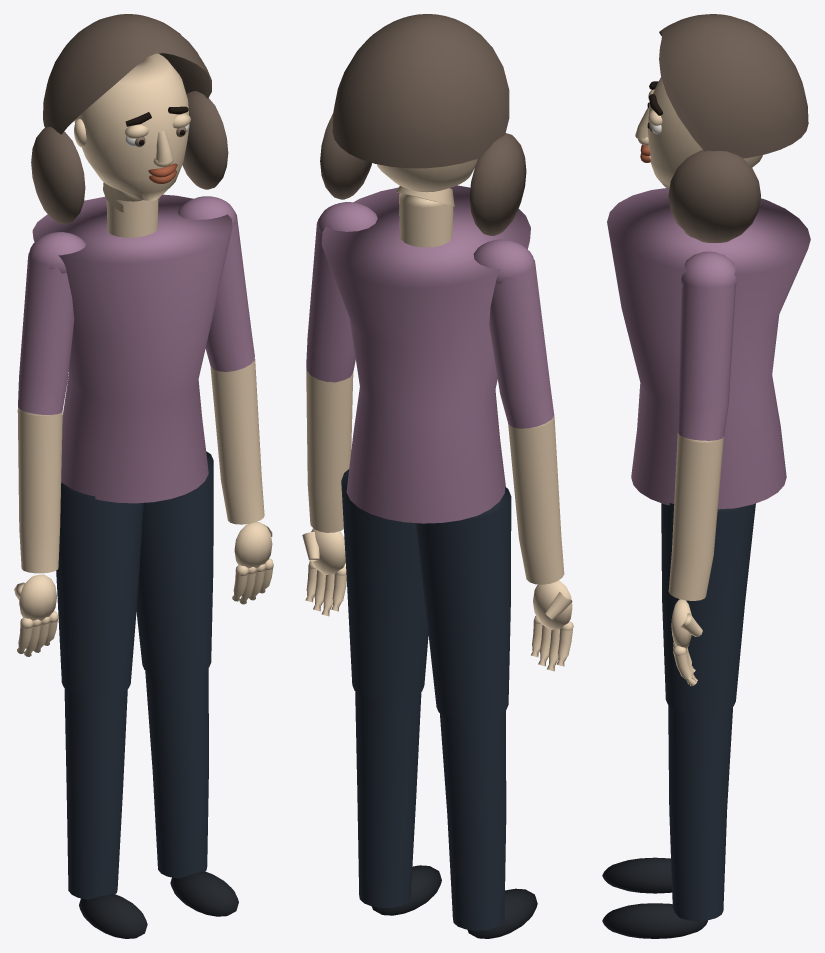
3 renders of one model, left to right at view 1: azimuth 30°, elevation 25°; view 2: azimuth 150°, elevation 25°; view 3: azimuth 270°, elevation 25°, orthographic. The views are drawn at different scales.
Visible parts, largest first — view 1: rana_fig, rana_head; view 2: rana_fig, rana_head; view 3: rana_fig, rana_head.
Boxes of the visible parts, x1=… form: rana_fig: x1=14, y1=194, x2=273, y2=938; rana_head: x1=31, y1=14, x2=228, y2=224; rana_fig: x1=302, y1=185, x2=573, y2=938; rana_head: x1=320, y1=14, x2=526, y2=235; rana_fig: x1=602, y1=188, x2=810, y2=938; rana_head: x1=635, y1=14, x2=808, y2=243.
Bounding box in the file's own units: 0.5154 × 1.68 × 0.3564.
